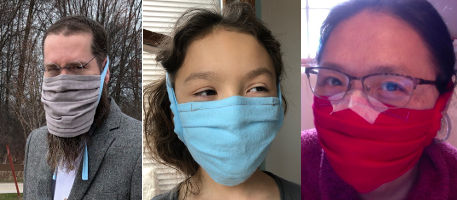with_mask: (303, 8, 452, 184), (155, 23, 289, 184), (25, 19, 127, 137)
